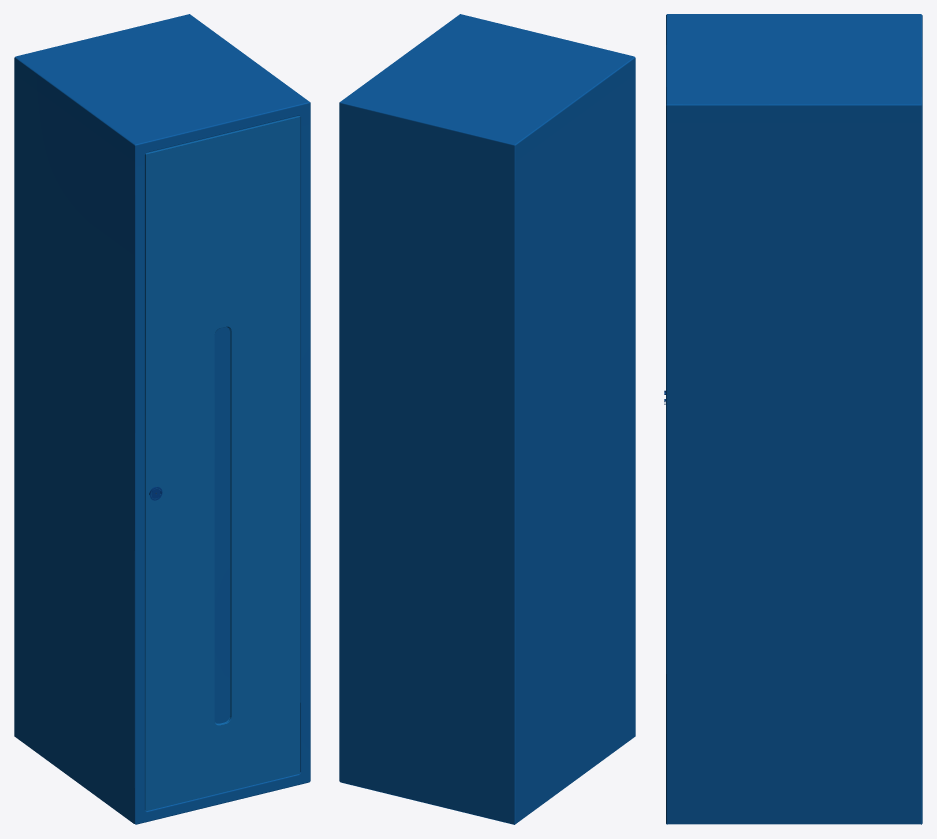
The model's file is SM_Locker_SingleDoor_Closed_Blue.fbx.
3 views of the same model, side by side, from view 1: azimuth 30°, elevation 25°; view 2: azimuth 150°, elevation 25°; view 3: azimuth 270°, elevation 25° (orthographic). The views are drawn at different scales.
Visible parts, largest first — view 1: SM_Locker_SingleDoor_Closed_Blue; view 2: SM_Locker_SingleDoor_Closed_Blue; view 3: SM_Locker_SingleDoor_Closed_Blue.
Part boxes in pixels (x1=…): SM_Locker_SingleDoor_Closed_Blue: x1=14, y1=14, x2=310, y2=824; SM_Locker_SingleDoor_Closed_Blue: x1=339, y1=14, x2=635, y2=824; SM_Locker_SingleDoor_Closed_Blue: x1=664, y1=14, x2=922, y2=824.
Bounding box in the file's own units: 58.47 × 215 × 69.85.
